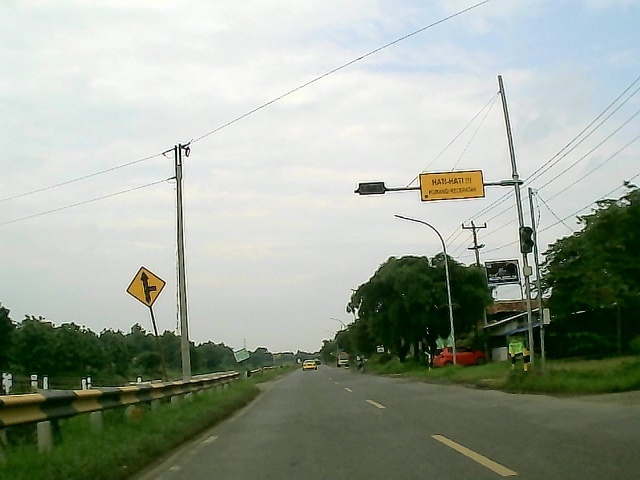Simpang kanan dengan prioritas: (122, 263, 172, 309)
